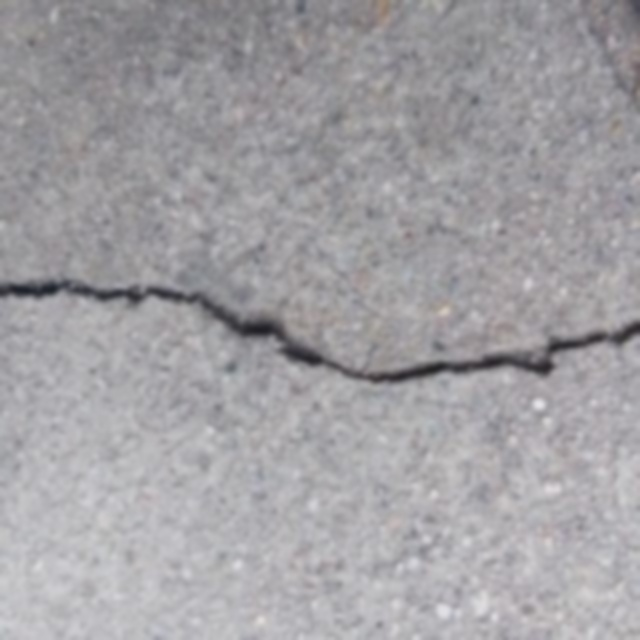SurfaceCrack: (4, 246, 640, 410)
